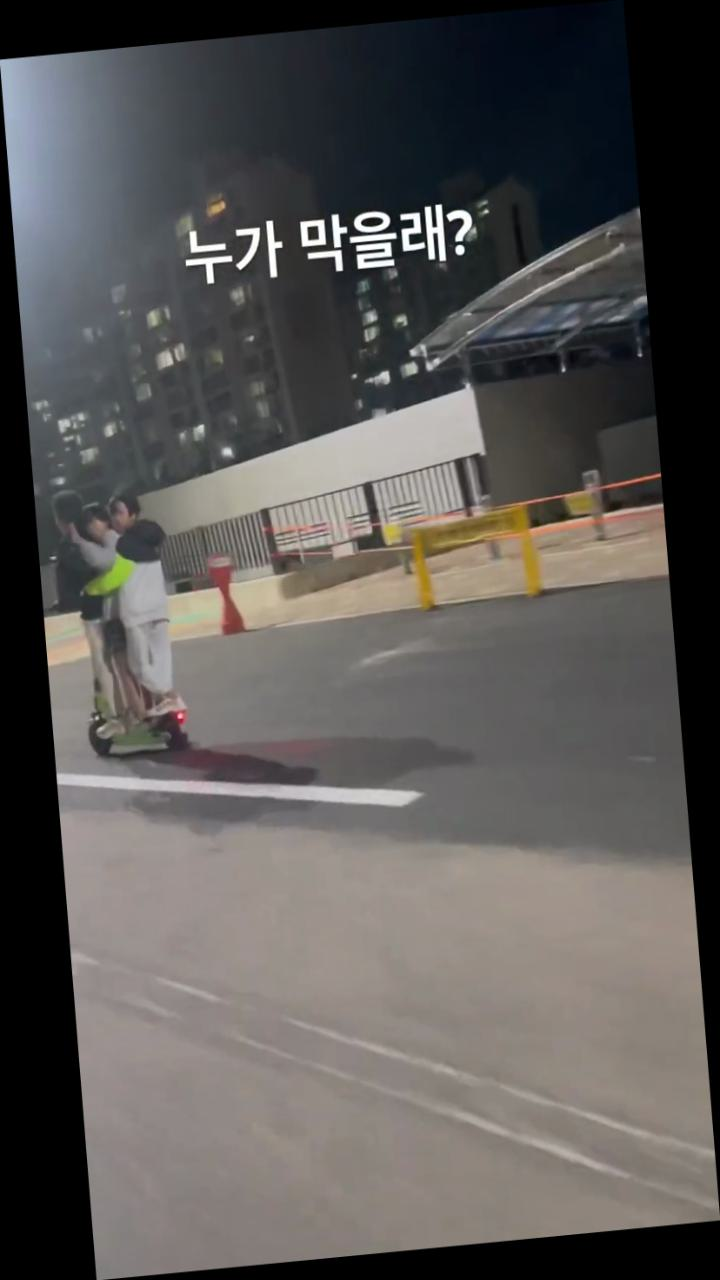multiple: (44, 476, 194, 764)
